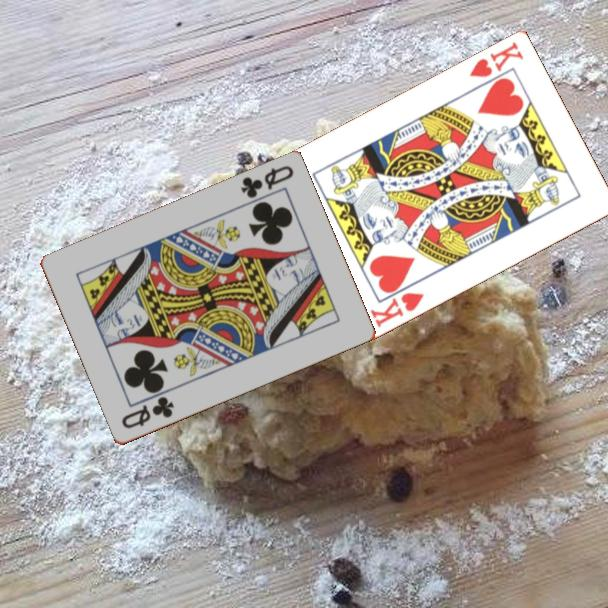c12: (237, 162, 297, 202), (118, 393, 177, 432)
h13: (466, 38, 527, 81), (367, 289, 427, 331)
